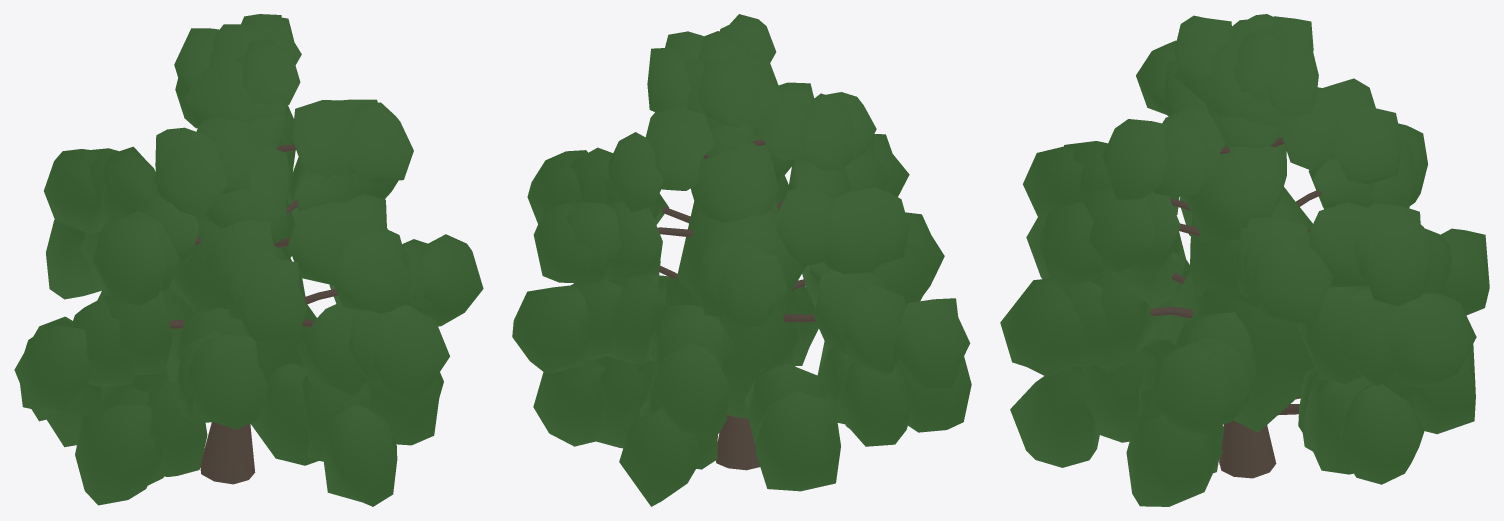
The model's file is Blender_MontereyPine_1.glb.
3 views of the same model, side by side, from view 1: azimuth 30°, elevation 25°; view 2: azimuth 150°, elevation 25°; view 3: azimuth 270°, elevation 25° (orthographic). The views are drawn at different scales.
Parts seen in each view (by area): view 1: Blender_MontereyPine_1; view 2: Blender_MontereyPine_1; view 3: Blender_MontereyPine_1.
Part boxes in pixels (box(x1,y1,x2,y2)): Blender_MontereyPine_1: box(14, 14, 483, 506); Blender_MontereyPine_1: box(512, 14, 971, 506); Blender_MontereyPine_1: box(1000, 14, 1489, 506).
Bounding box in the file's own units: 21.76 × 21.07 × 20.34.
